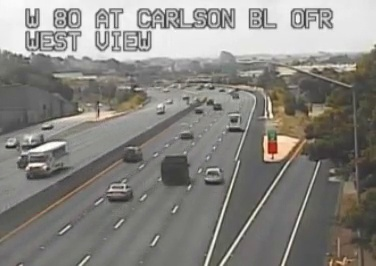bus: (226, 113, 241, 131)
car: (105, 183, 131, 200), (203, 167, 222, 183), (122, 146, 141, 162)
small-truck: (161, 156, 188, 186)
